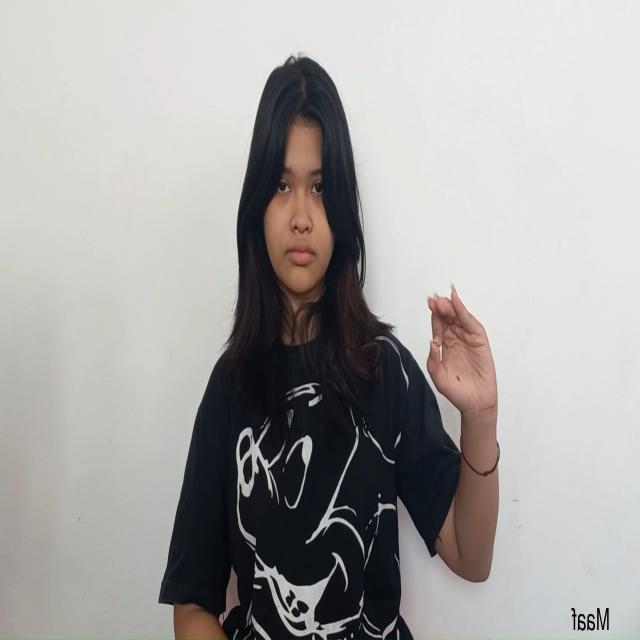Maaf -BISINDO-: (424, 278, 500, 436)
